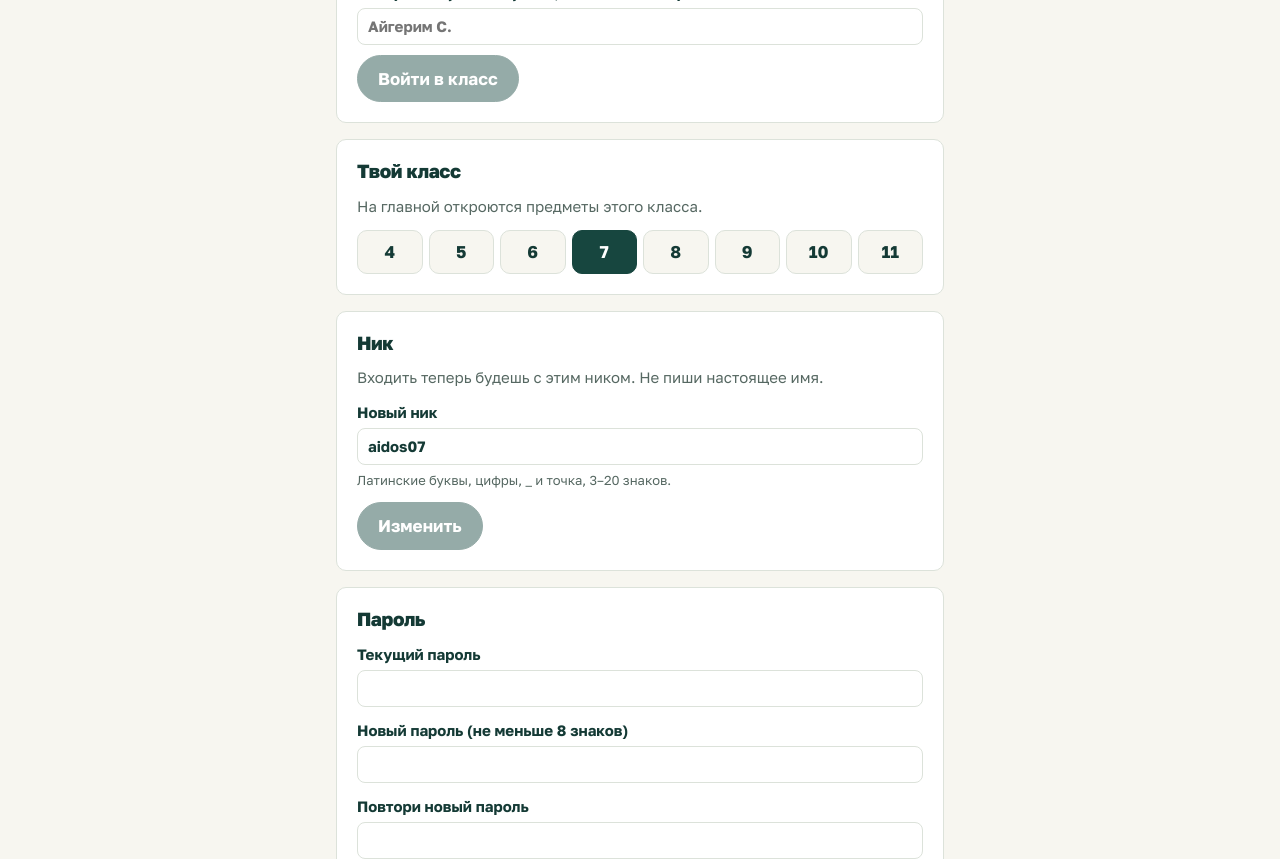
it: кабинет ученика /me › ник: проверка формата, занятый ник, успешная смена
(page scrolled)
Replace the text in the field labelled "Новый ник" with "Иван" at (640, 447), box [357,428,923,465]
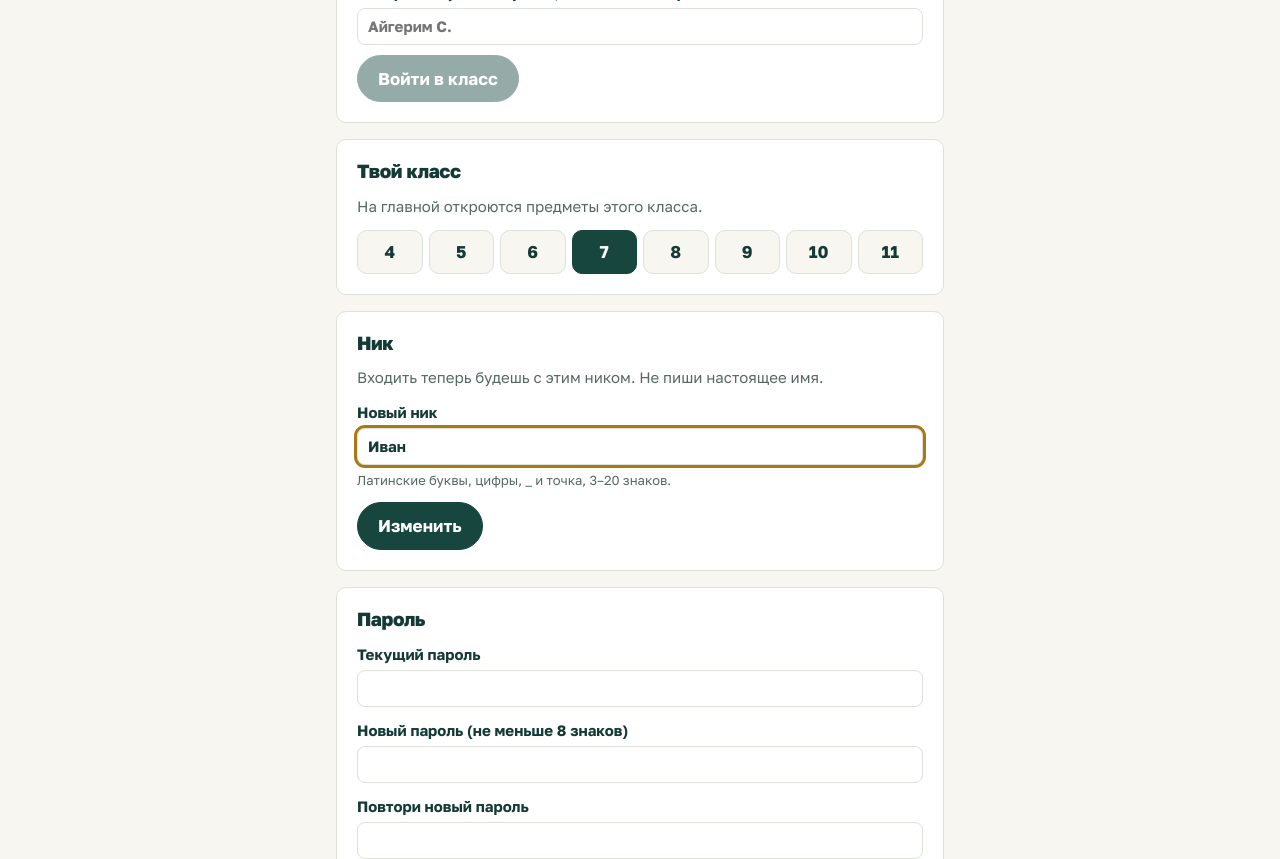
Click the button "Изменить" at (420, 526), box [357,502,483,550]
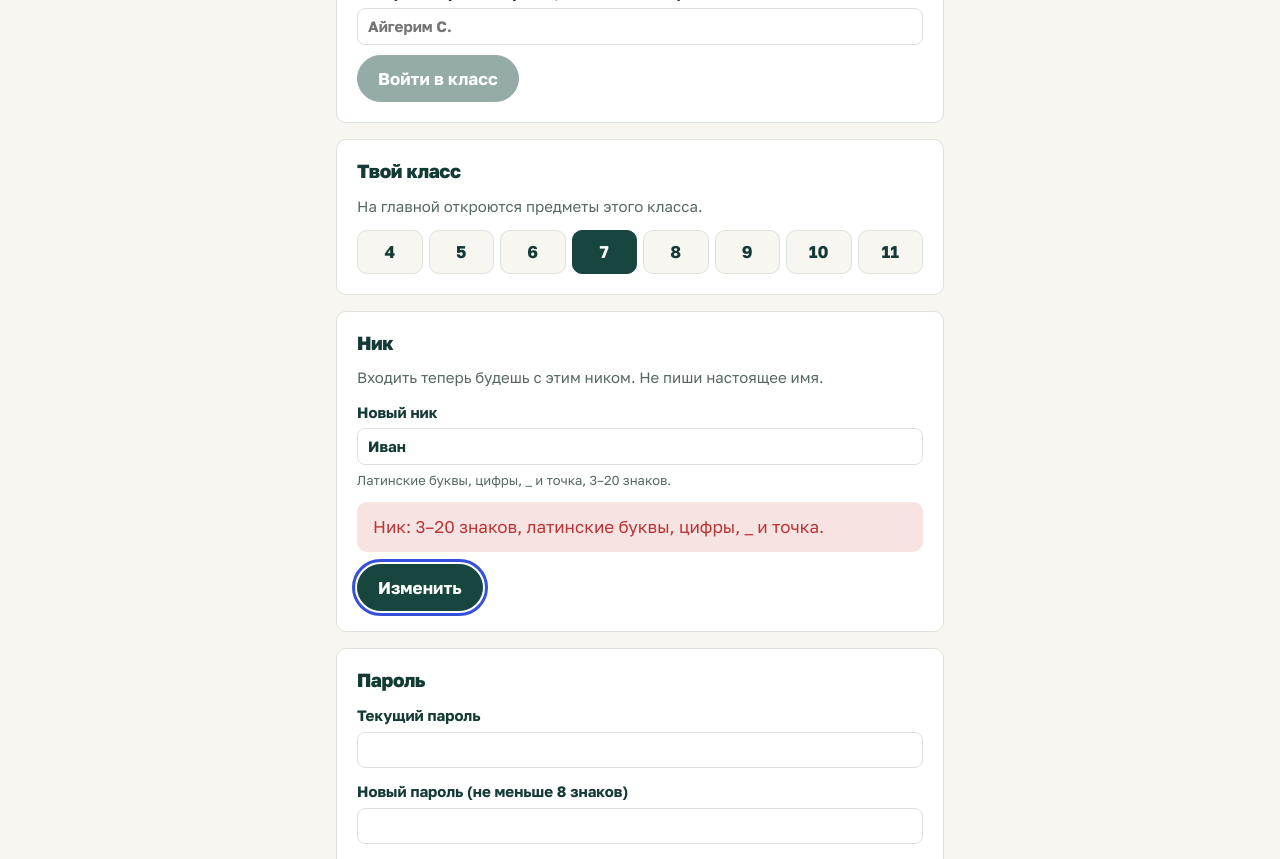
Expected: the message shows "3–20 знаков", [373,516,824,538]
Replace the text in the field labelled "Новый ник" with "taken" at (640, 447), box [357,428,923,465]
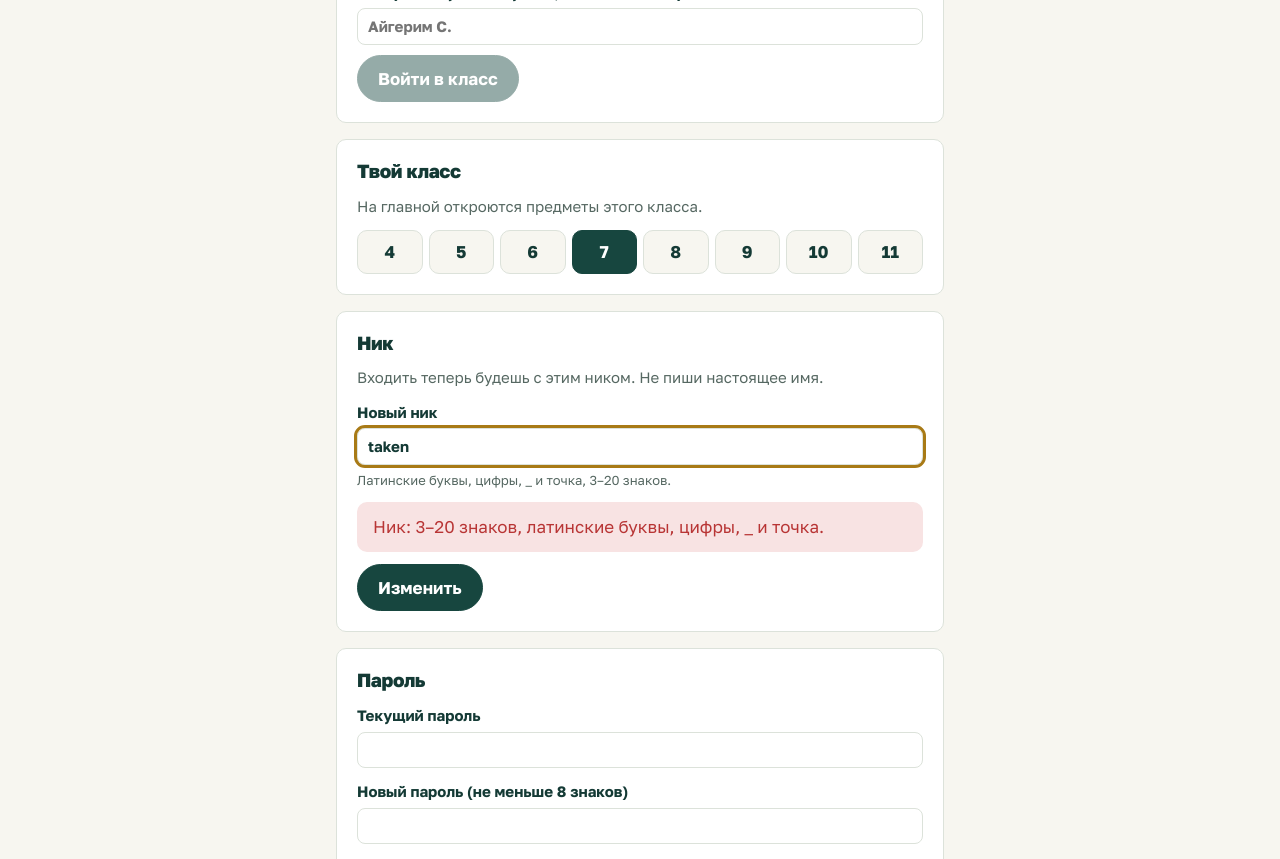
Click the button "Изменить" at (420, 588), box [357,564,483,612]
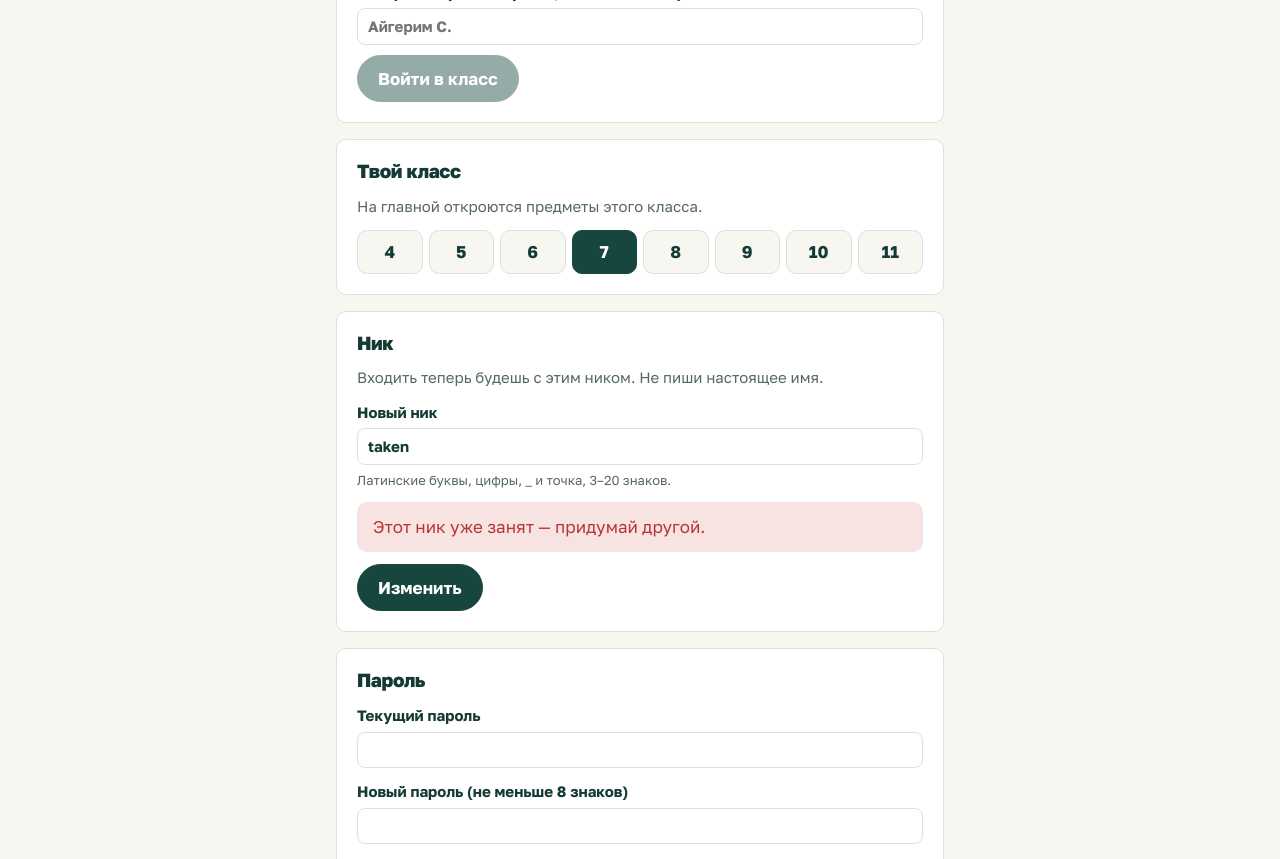
Expected: the message shows "уже занят", [373,516,705,538]
Replace the text in the field labelled "Новый ник" with "Barys_07" at (640, 447), box [357,428,923,465]
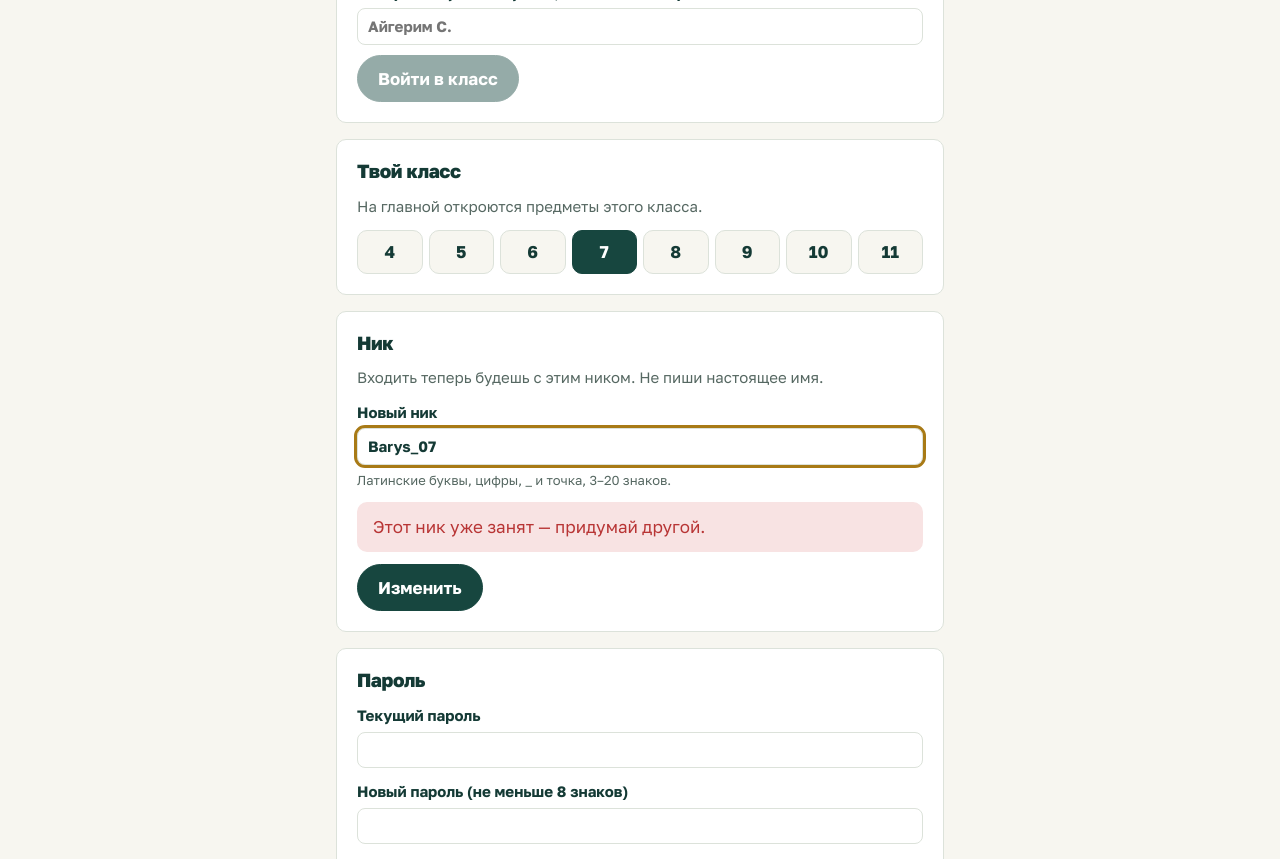
Click the button "Изменить" at (420, 588), box [357,564,483,612]
(page scrolled)
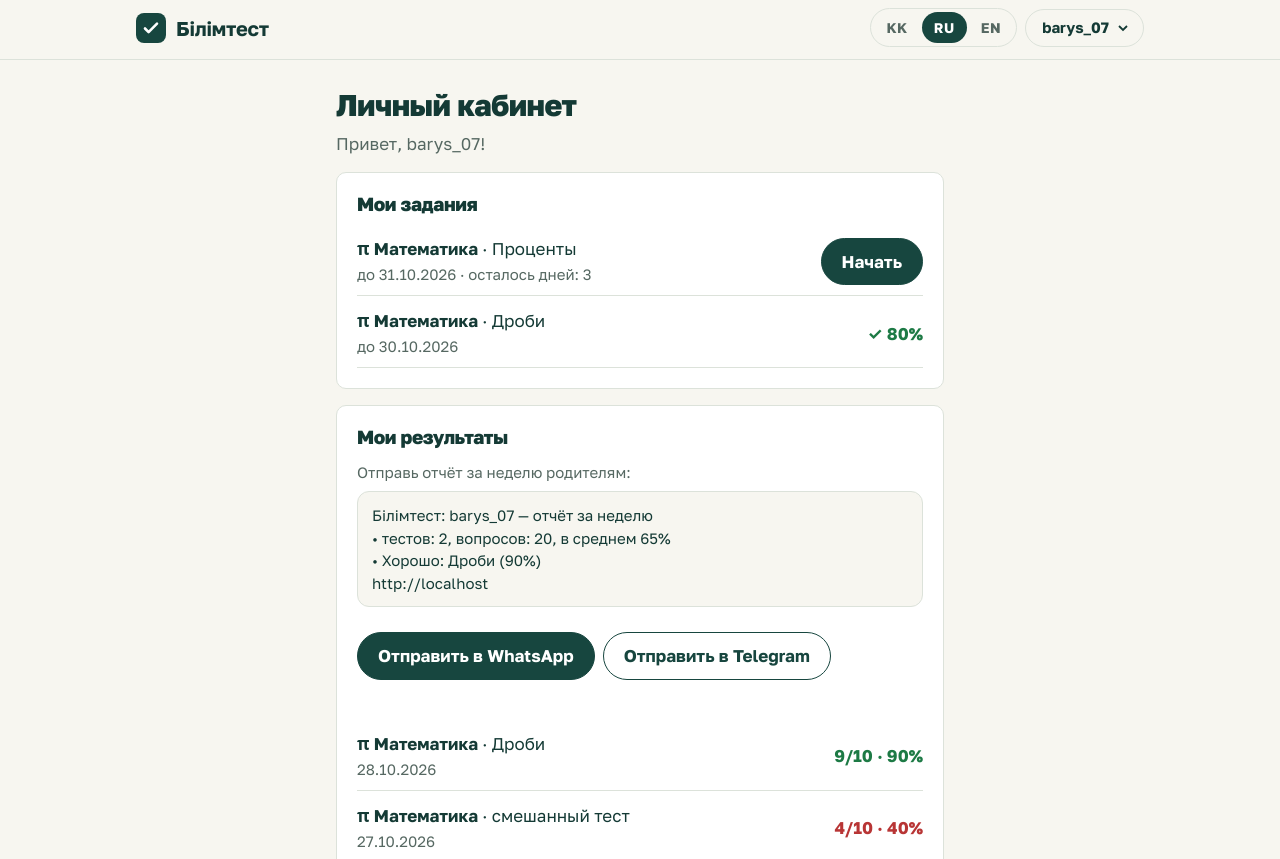
Expected: the text "Привет, barys_07!" is shown, [336,132,485,154]
